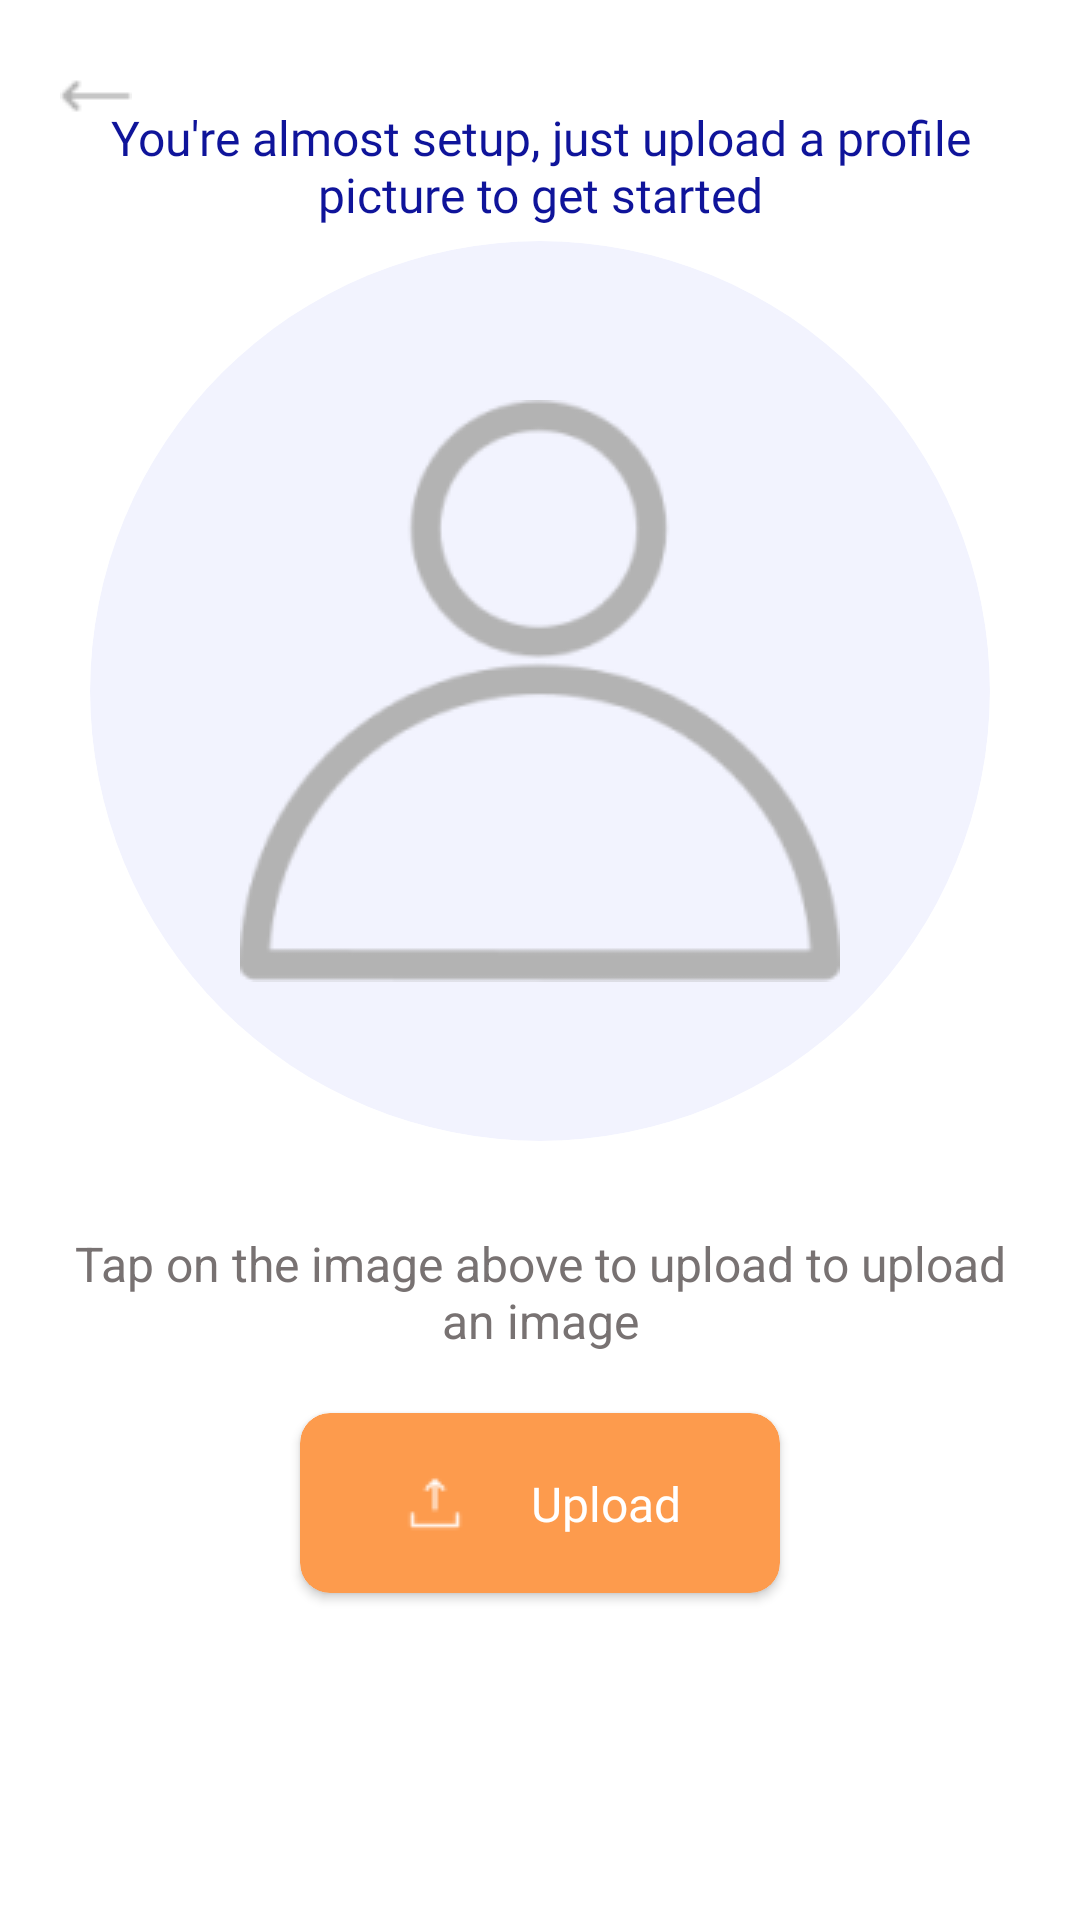

Icons on this 1080px×1920px Android screen, each with its box as (x1, y1, x2, y2):
back: (62, 81, 130, 111)
